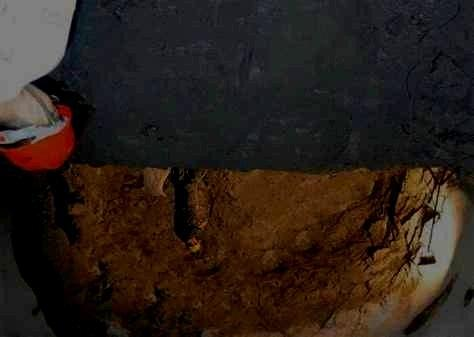helmet: (1, 86, 76, 172), (184, 237, 201, 254)
